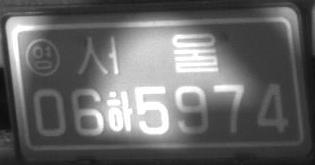0: (32, 87, 66, 137)
4: (256, 82, 289, 134)
5: (134, 85, 170, 135)
6: (70, 87, 104, 137)
7: (212, 83, 245, 133)
9: (174, 84, 208, 135)
서울_D: (75, 32, 219, 75)
영: (25, 38, 59, 76)
하: (105, 89, 133, 132)
